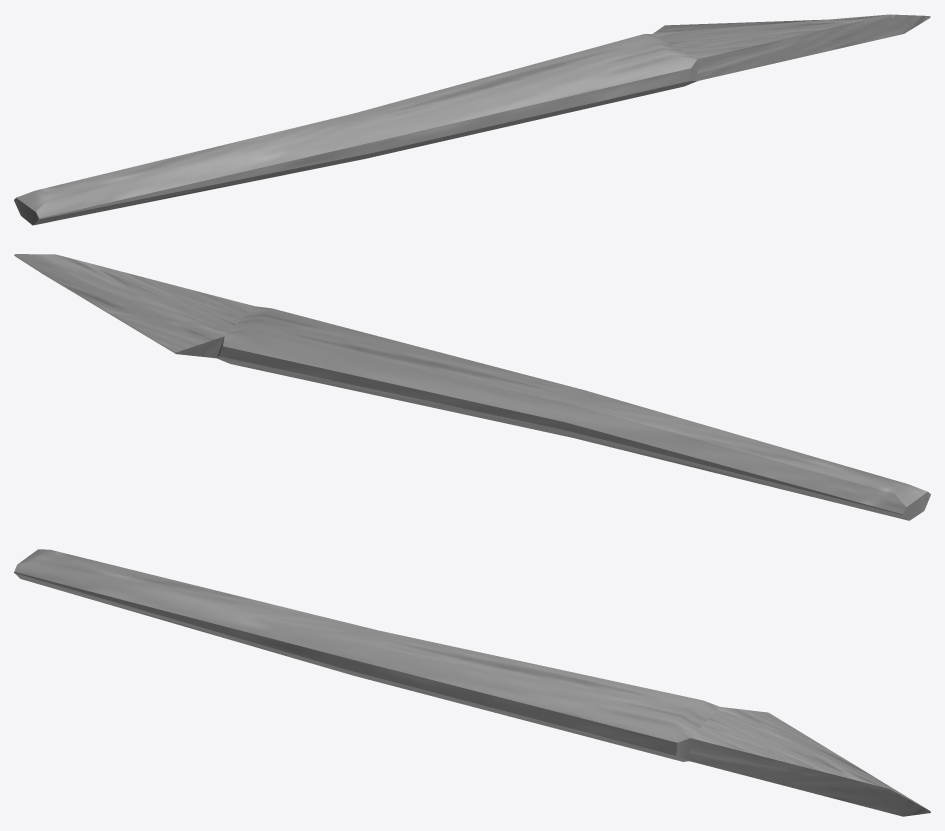
File: Knife.fbx
3 renders of one model, top to bottom at view 1: azimuth 30°, elevation 25°; view 2: azimuth 150°, elevation 25°; view 3: azimuth 330°, elevation 25°, orthographic. The views are drawn at different scales.
Parts seen in each view (by area): view 1: Knife; view 2: Knife; view 3: Knife.
Boxes of the visible parts, bbox=[...] form: Knife: bbox=[14, 14, 930, 225]; Knife: bbox=[14, 254, 930, 520]; Knife: bbox=[14, 549, 930, 816].
Bounding box in the file's own units: 41.2 × 1.53 × 4.64.
1 material, 1 textured.
